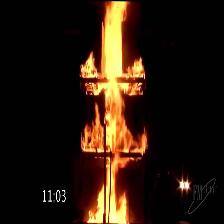fire: (94, 1, 129, 224)
